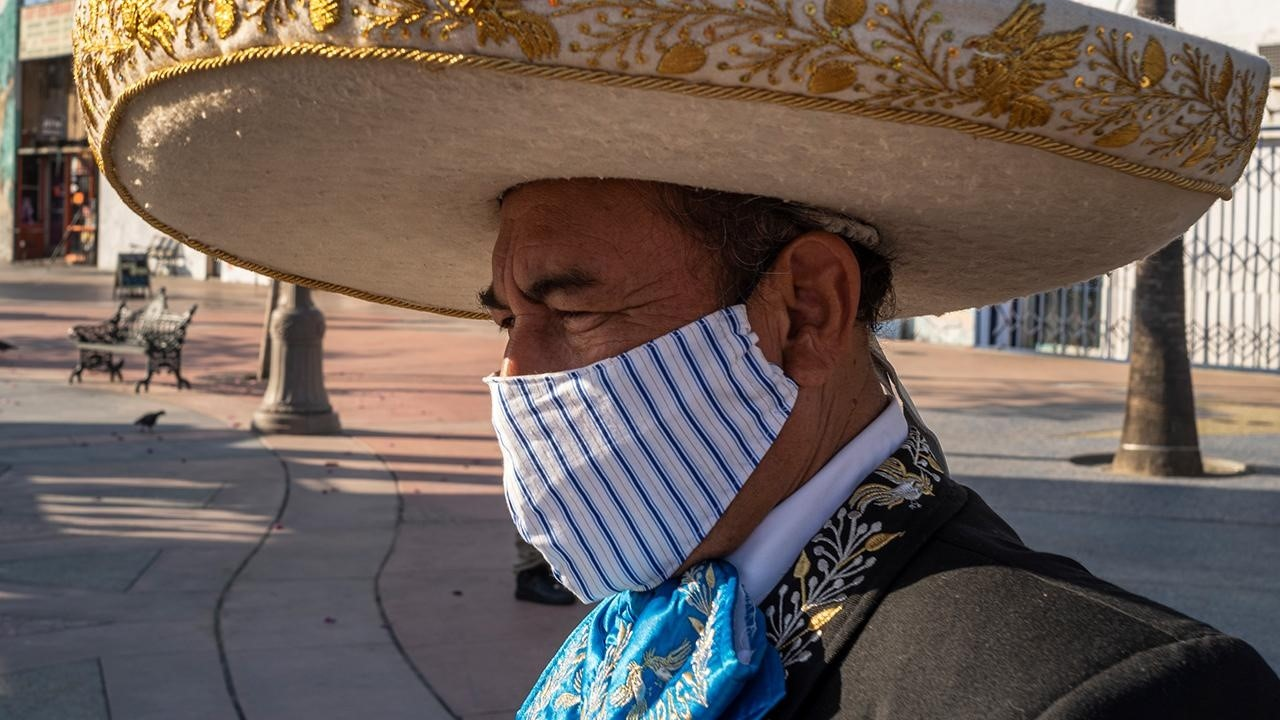face_with_mask: (474, 181, 888, 610)
